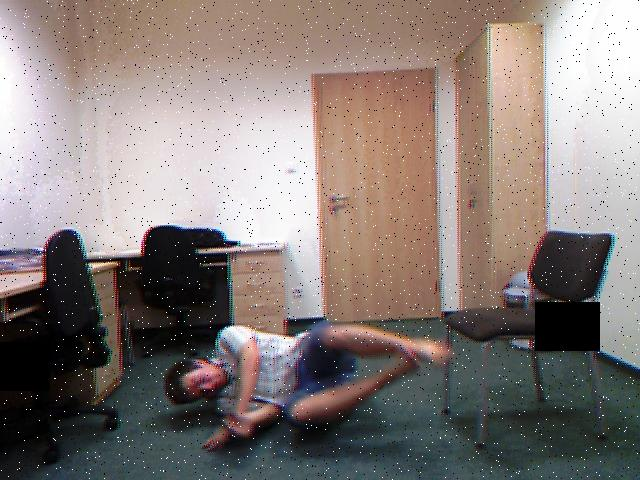fall: (161, 319, 453, 459)
